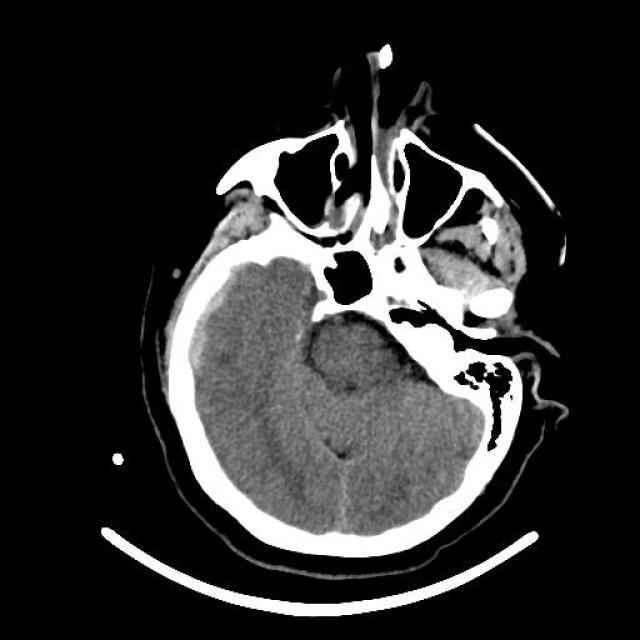Subdural: (150, 255, 264, 389)
